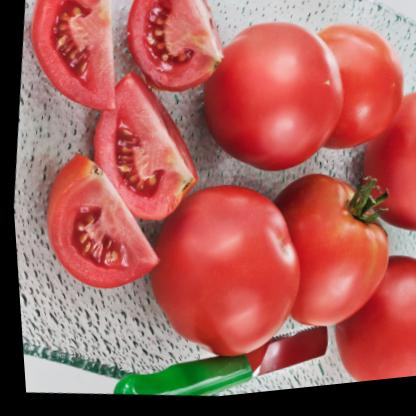---: (0, 0, 226, 311), (117, 166, 310, 367), (236, 161, 412, 356), (184, 0, 351, 194), (346, 89, 416, 258)
